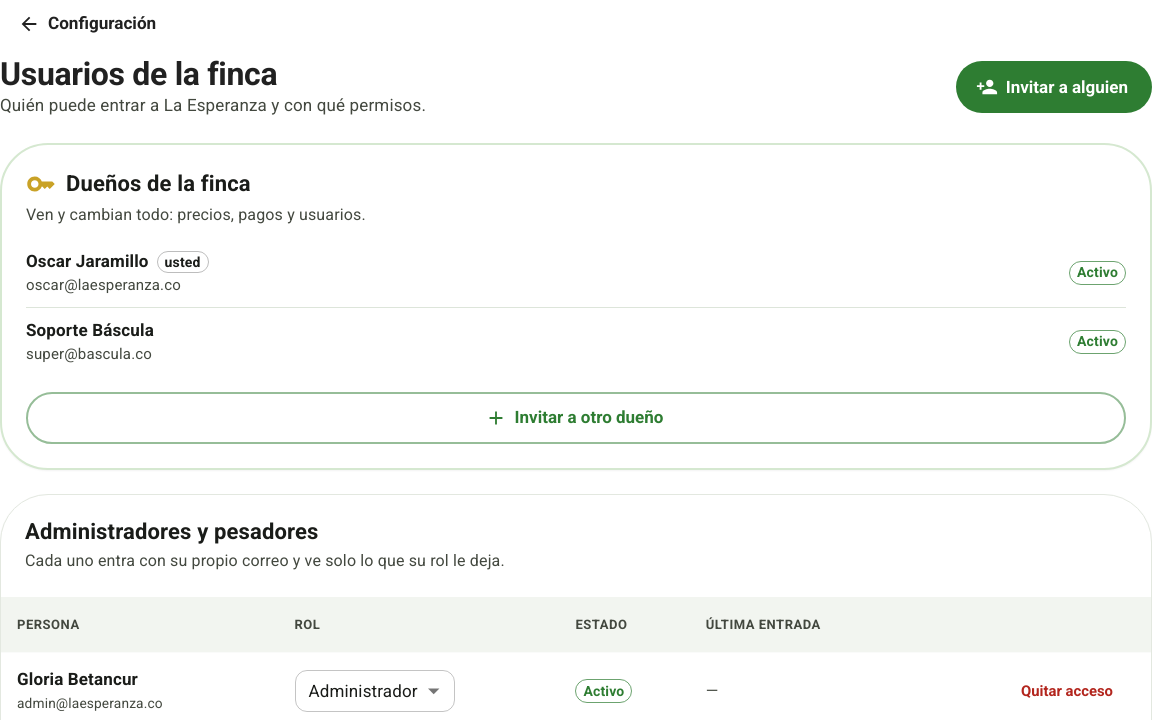
Scenario: what the server sends back › says nothing new was made for somebody who already had access
The width and height of the screenshot is (1152, 720).
Expected: the text "Gloria Betancur" is shown, [17,669,138,689]
Click the button "Invitar a alguien" at (1054, 87), box [956,61,1151,113]
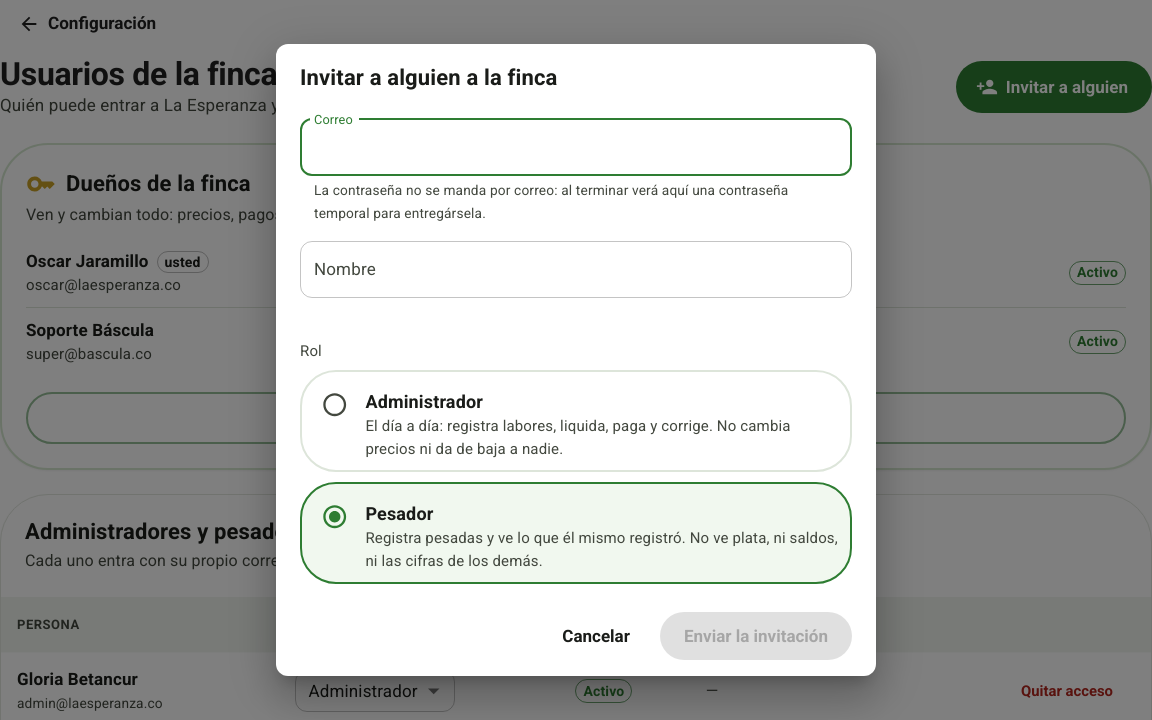
Type "ya@laesperanza.co" into the field labelled "Correo" at (576, 148), box [300,119,852,176]
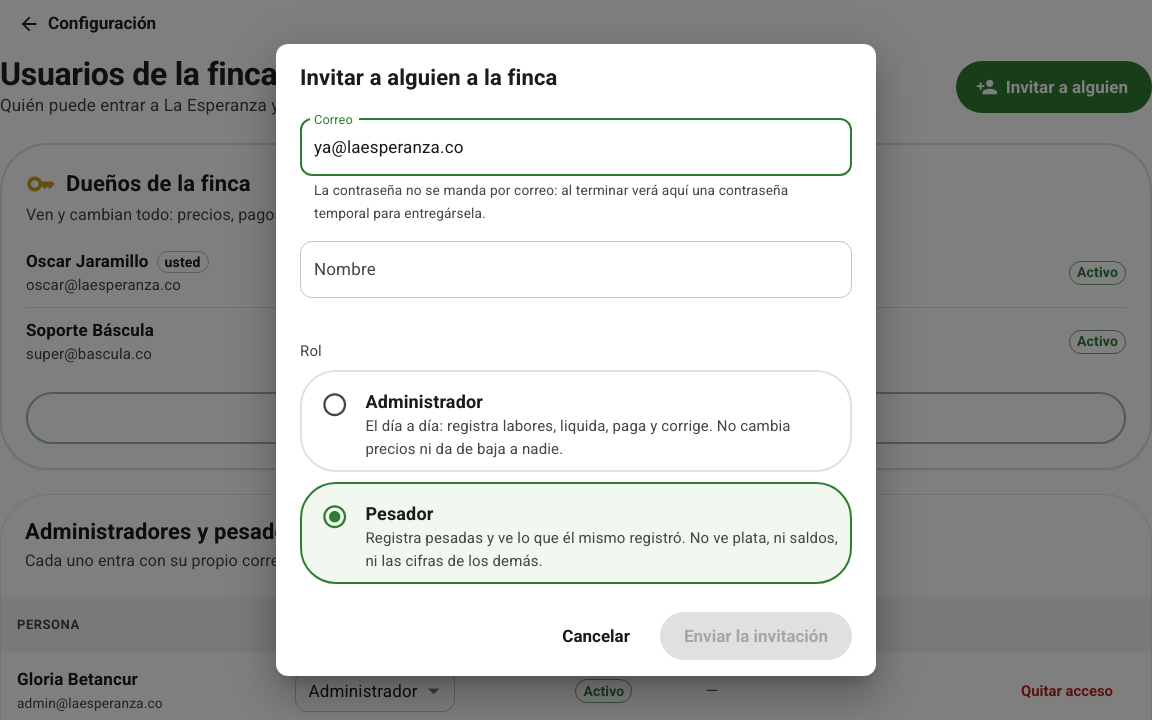
Type "Ya Estaba" into the field labelled "Nombre" at (576, 269), box [300,241,852,298]
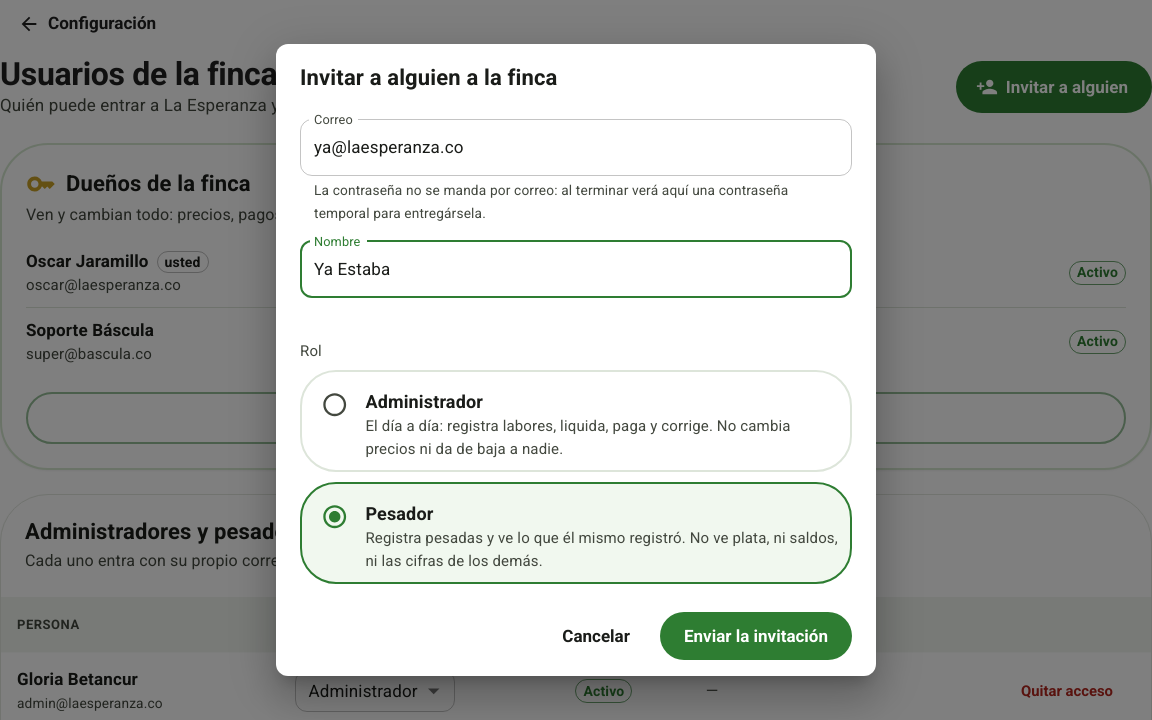
Click the button "Enviar la invitación" at (756, 636), box [660,612,852,660]
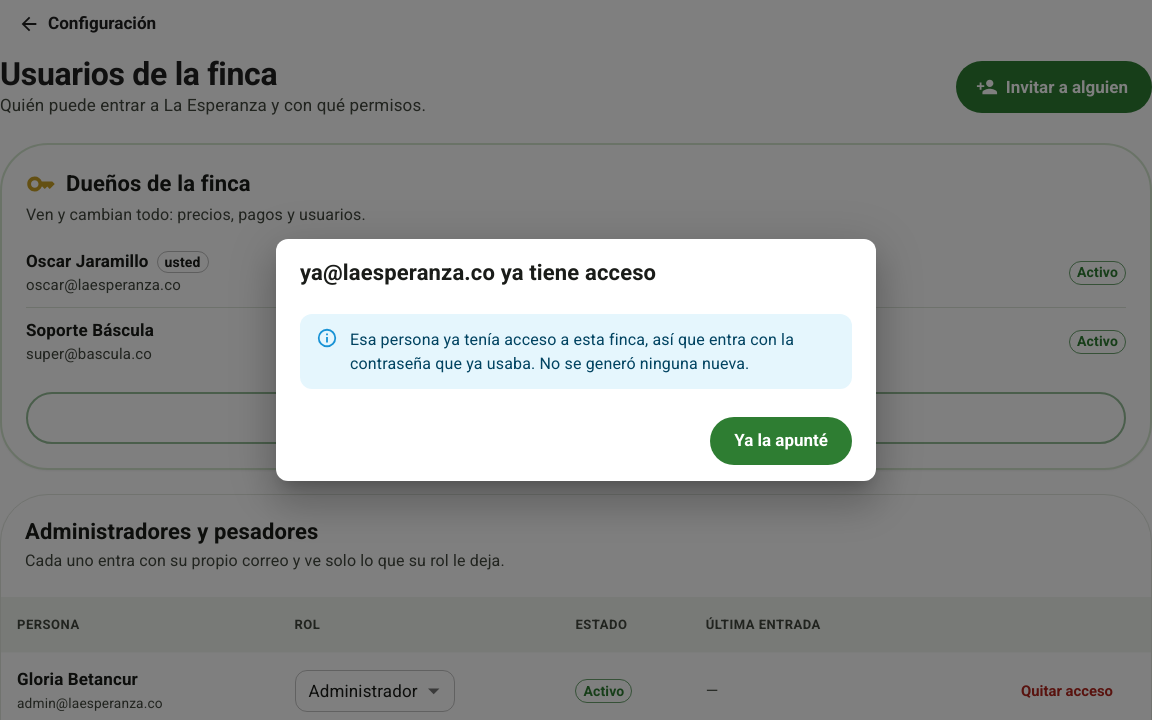
Result: the text "ya tenía acceso a esta finca" is shown at [350,330,794,373]
Result: the text "Contraseña temporal" is gone
